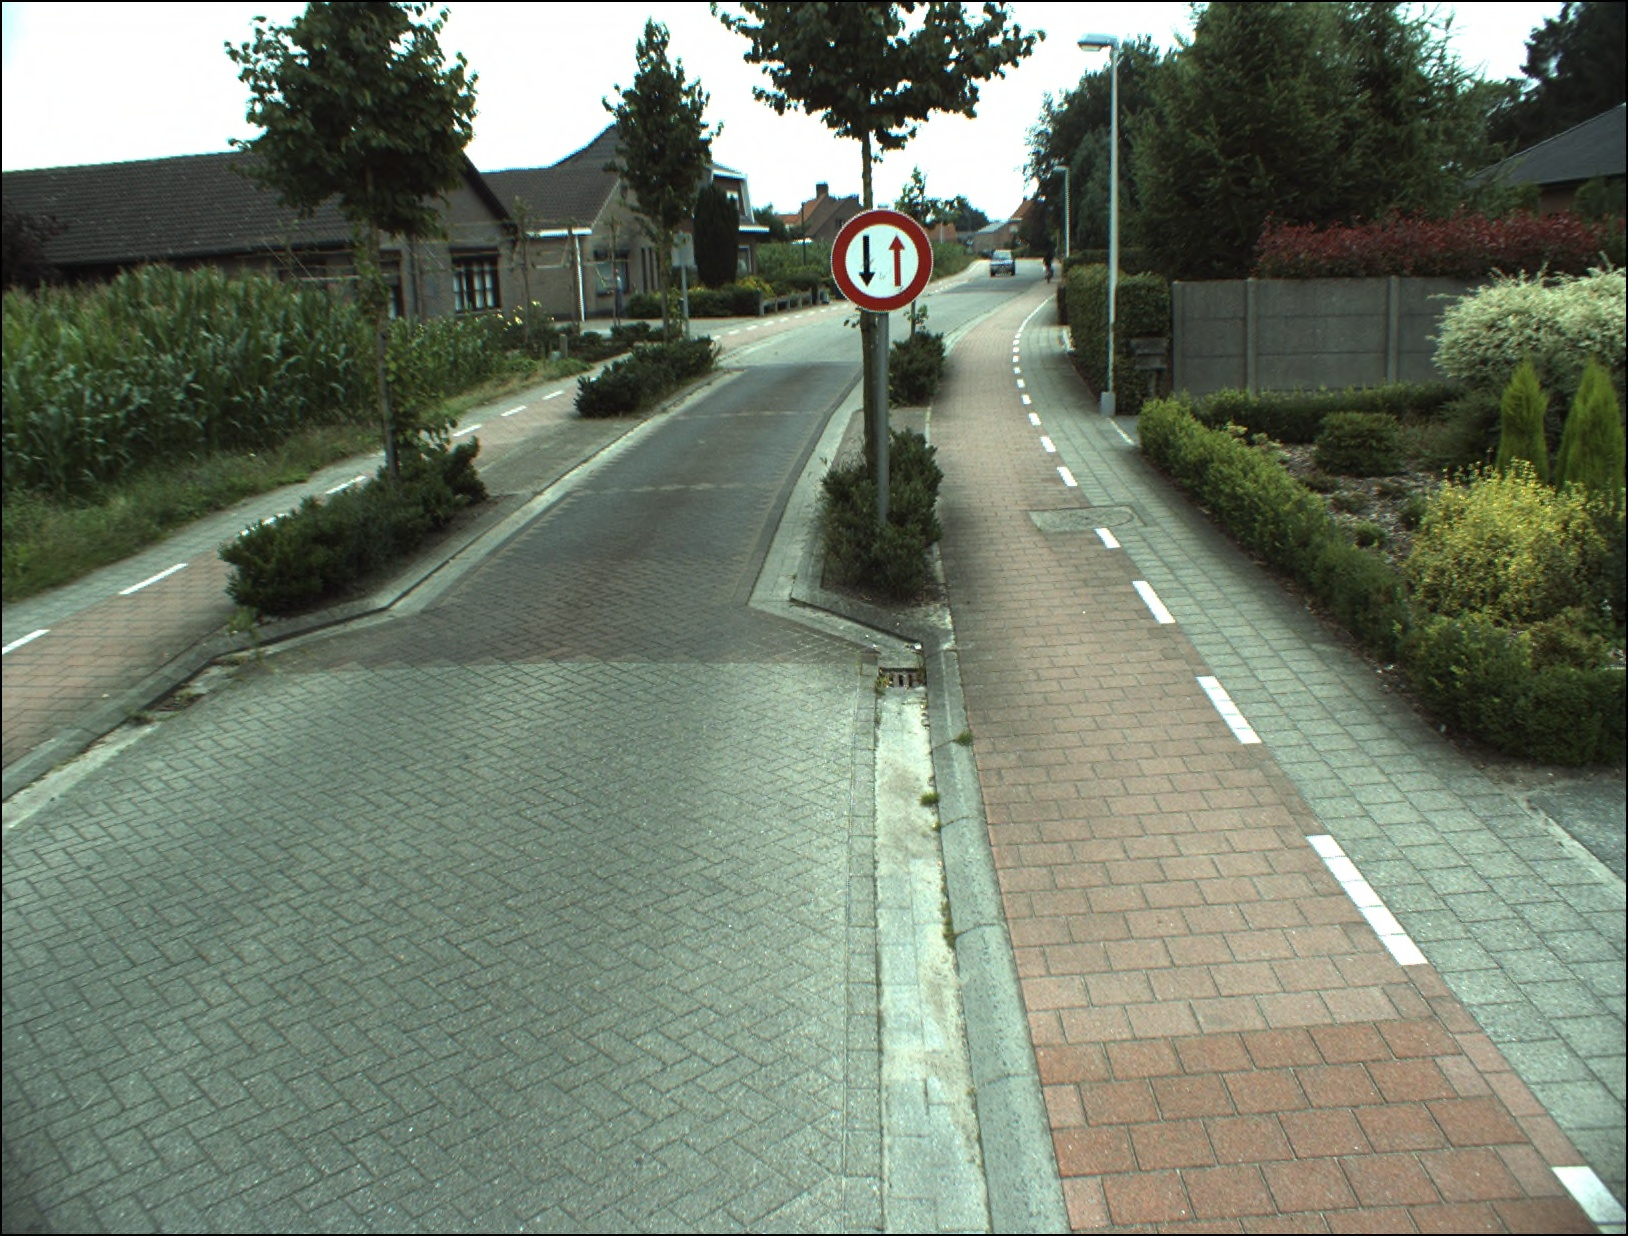roadnarrow2: (830, 206, 930, 313)
